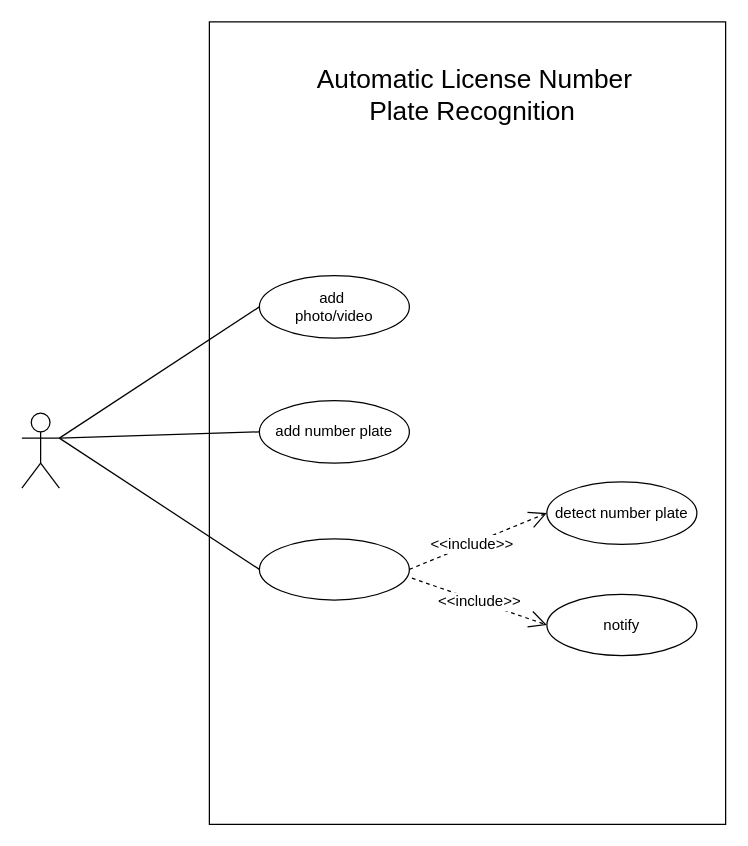
The diagram is 748 pixels wide and 846 high, and some of its shapes have lost their labels. Here are the shapes that lost their labels. From the top down, the centre of each, then its label:
point (40, 450): User
point (333, 569): recognize character
